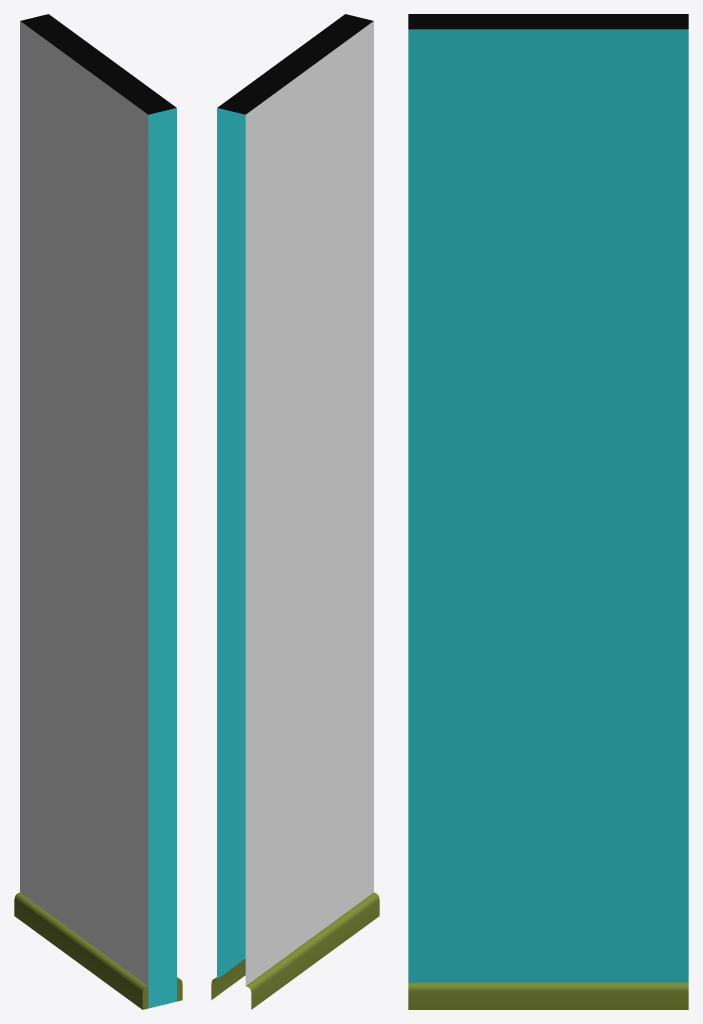
The model's file is Wall (Single) with end filled.fbx.
3 views of the same model, side by side, from view 1: azimuth 30°, elevation 25°; view 2: azimuth 150°, elevation 25°; view 3: azimuth 270°, elevation 25° (orthographic). The views are drawn at different scales.
Parts seen in each view (by area): view 1: Box001; view 2: Box001; view 3: Box001.
Part boxes in pixels (x1,y1,x2,y2): Box001: [14, 14, 182, 1009]; Box001: [211, 14, 379, 1009]; Box001: [408, 14, 688, 1009].
Bounding box in the file's own units: 27.56 × 591 × 154.
